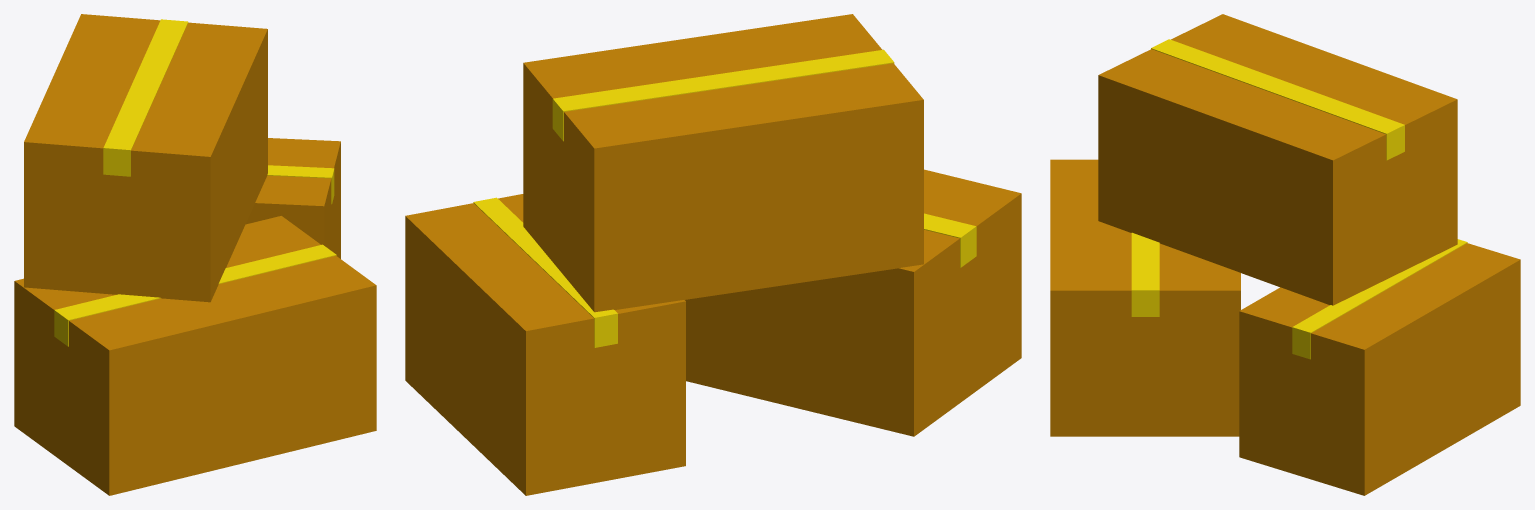
File: cardboard-boxes-by-julesgamer70000-EvcJcAqXcy.glb
The picture shows the model from 3 angles, left to right: view 1: azimuth 30°, elevation 25°; view 2: azimuth 150°, elevation 25°; view 3: azimuth 270°, elevation 25°; orthographic projection. The views are drawn at different scales.
Parts seen in each view (by area): view 1: Cube, Cube.004, Cube.002, Cube.005, Cube.001, Cube.003; view 2: Cube.004, Cube.002, Cube, Cube.005, Cube.003, Cube.001; view 3: Cube.004, Cube.002, Cube, Cube.005, Cube.003, Cube.001.
Part boxes in pixels (box(x1,y1,x2,y2)): Cube: box(14, 216, 376, 495); Cube.004: box(24, 14, 267, 302); Cube.002: box(246, 138, 340, 258); Cube.005: box(103, 19, 188, 176); Cube.001: box(54, 244, 336, 346); Cube.003: box(267, 165, 334, 204); Cube.004: box(523, 14, 923, 312); Cube.002: box(405, 194, 685, 495); Cube: box(685, 169, 1021, 436); Cube.005: box(552, 49, 894, 141); Cube.003: box(473, 197, 617, 347); Cube.001: box(924, 213, 976, 267); Cube.004: box(1098, 14, 1457, 305); Cube.002: box(1239, 243, 1520, 495); Cube: box(1050, 159, 1240, 436); Cube.005: box(1151, 39, 1404, 160); Cube.003: box(1292, 239, 1467, 359); Cube.001: box(1131, 232, 1159, 316).
Size of the model in its own units: 4.34 by 3.11 by 4.53.
